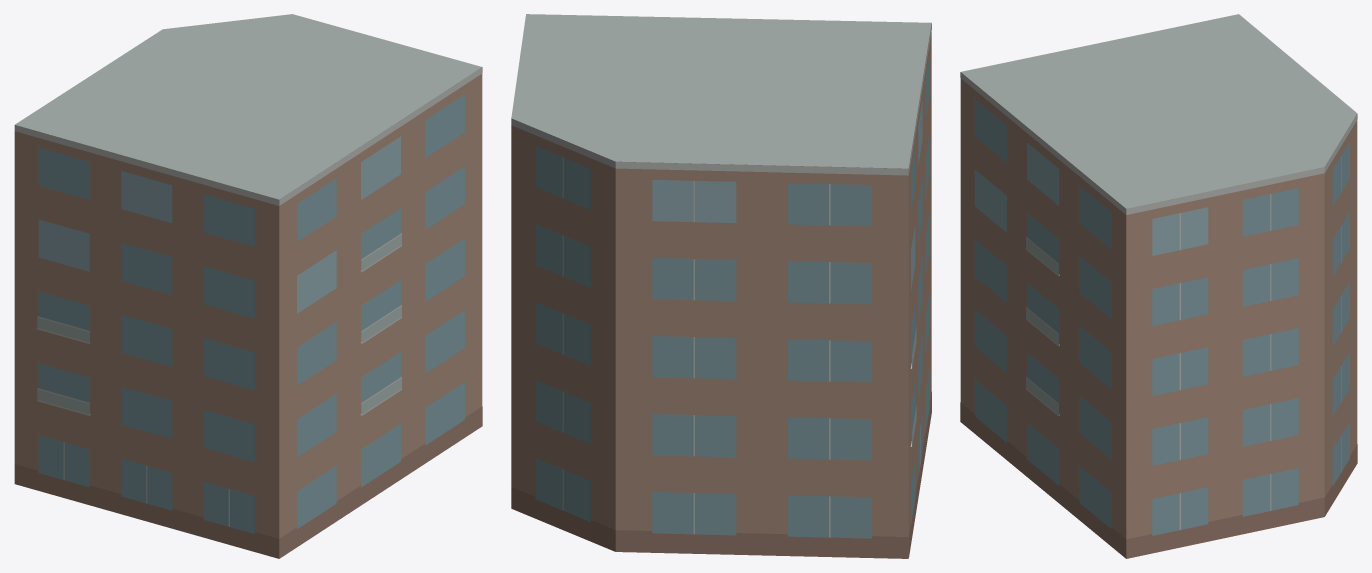
The model's file is survey-upis-32994972.glb.
The picture shows the model from 3 angles, left to right: view 1: azimuth 30°, elevation 25°; view 2: azimuth 150°, elevation 25°; view 3: azimuth 270°, elevation 25°; orthographic projection. The views are drawn at different scales.
Visible parts, largest first — view 1: survey-upis-32994972.tmp; view 2: survey-upis-32994972.tmp; view 3: survey-upis-32994972.tmp.
Boxes of the visible parts, bbox=[...] form: survey-upis-32994972.tmp: bbox=[14, 14, 482, 558]; survey-upis-32994972.tmp: bbox=[511, 14, 931, 558]; survey-upis-32994972.tmp: bbox=[960, 14, 1357, 558].
Size of the model in its own units: 16.49 by 13.8 by 14.2.
